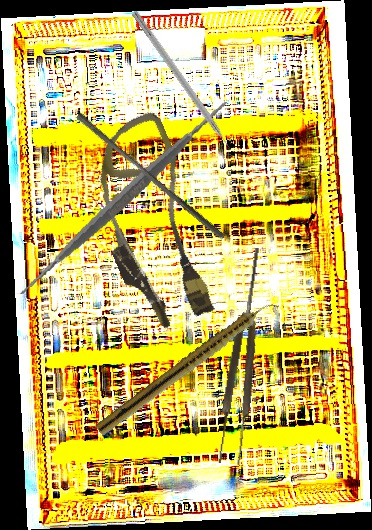Cannula: (66, 108, 238, 339)
Chopper: (122, 9, 240, 166)
Handpiece: (94, 293, 281, 440)
Pusher: (71, 111, 231, 241)
Spatula Surgical: (1, 77, 245, 319)
Tissue Forceps: (214, 246, 273, 466)
